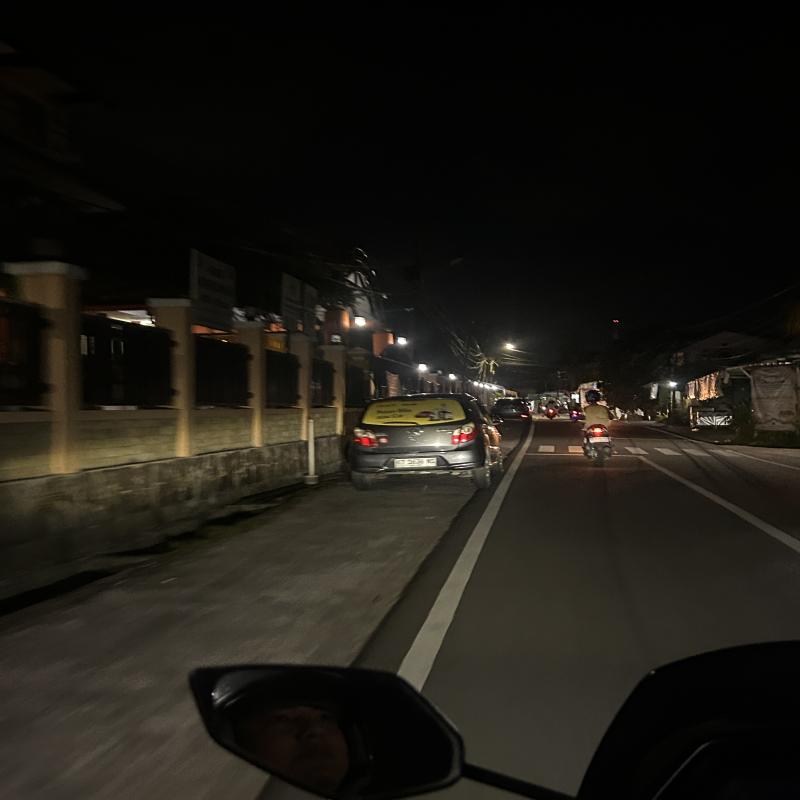license plate on a car: (393, 453, 438, 470)
